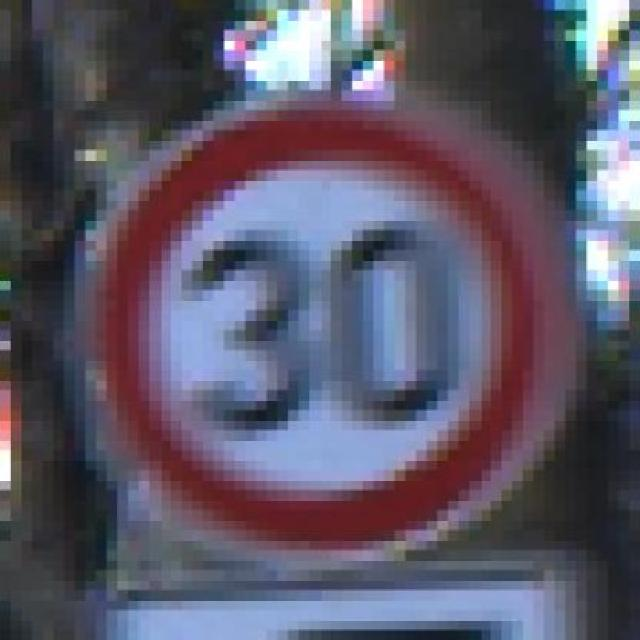Speed Limit 30 KMPh: (42, 49, 608, 560)
